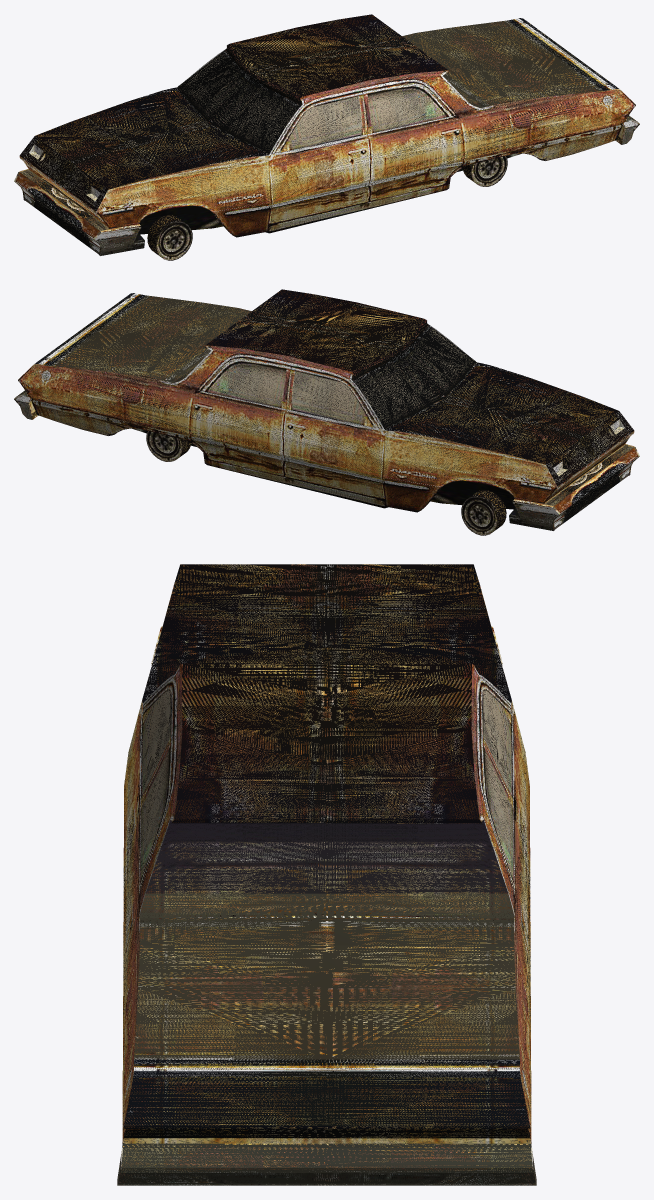
The model's file is Car.FBX.
The picture shows the model from 3 angles, top to bottom: view 1: azimuth 30°, elevation 25°; view 2: azimuth 150°, elevation 25°; view 3: azimuth 270°, elevation 25°; orthographic projection. The views are drawn at different scales.
Visible parts, largest first — view 1: Mesh8; view 2: Mesh8; view 3: Mesh8.
Boxes of the visible parts, box(x1,y1,x2,y2) form: Mesh8: box(14, 14, 639, 260); Mesh8: box(14, 289, 639, 535); Mesh8: box(117, 564, 536, 1185).
Size of the model in its own units: 91.36 by 20.79 by 31.06.
